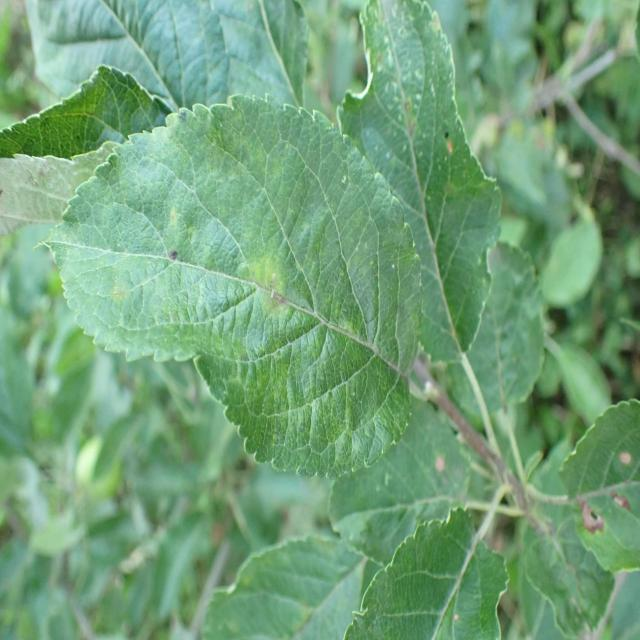scab: (84, 150, 402, 443), (365, 1, 440, 211)
